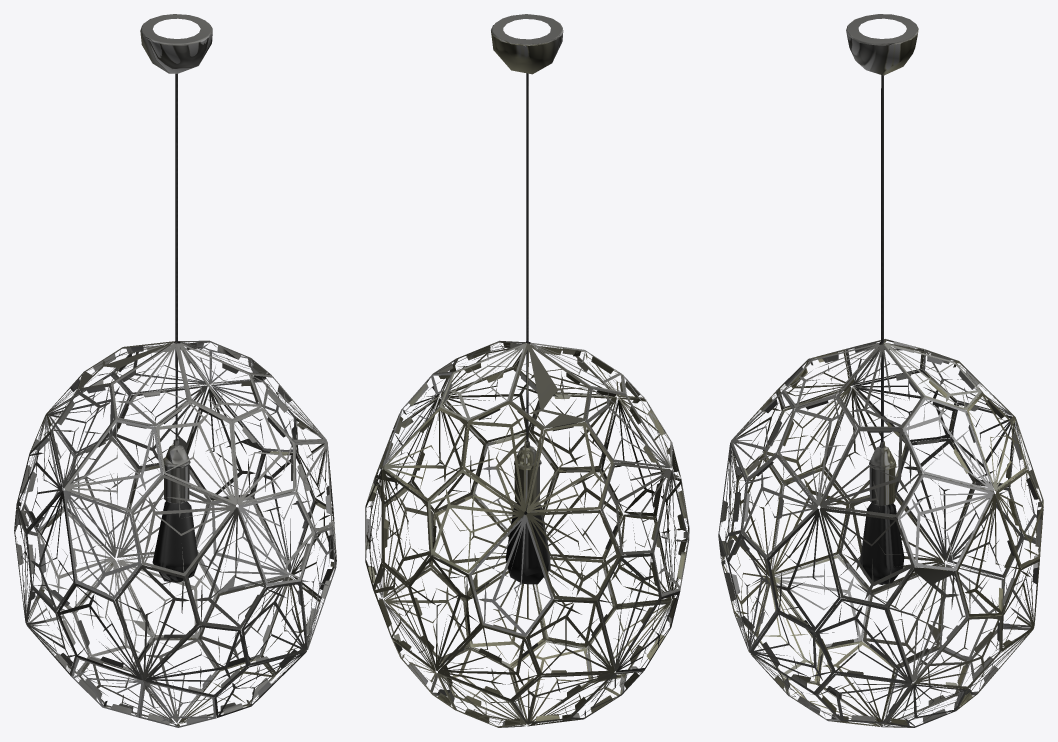
The model's file is Pendant_Lamp_74328832-5c9a-599d-8ec5-ddd5299d55c7.glb.
The picture shows the model from 3 angles, left to right: view 1: azimuth 30°, elevation 25°; view 2: azimuth 150°, elevation 25°; view 3: azimuth 270°, elevation 25°; orthographic projection.
Parts seen in each view (by area): view 1: raw_model.obj; view 2: raw_model.obj; view 3: raw_model.obj.
Part boxes in pixels (x1,y1,x2,y2): raw_model.obj: (14,14,336,727); raw_model.obj: (365,14,689,727); raw_model.obj: (718,14,1043,727).
Size of the model in its own units: 0.4304 by 1.02 by 0.4303.
1 material, 1 textured.
